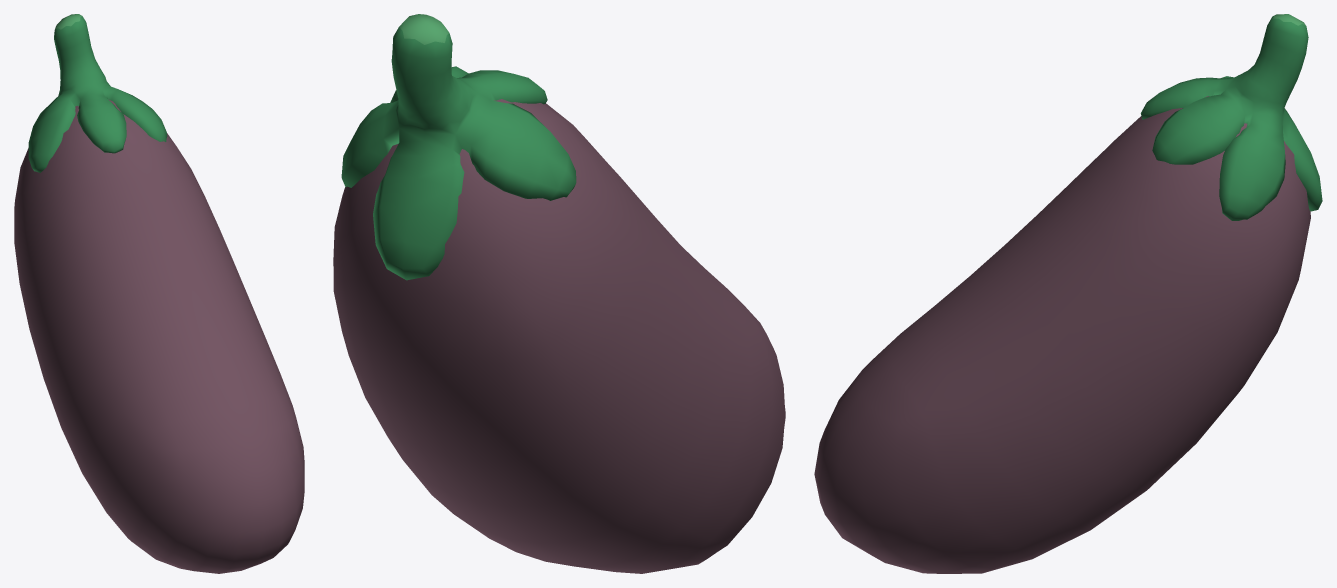
Rendered from Aubergine_02.dae.
The picture shows the model from 3 angles, left to right: view 1: azimuth 30°, elevation 25°; view 2: azimuth 150°, elevation 25°; view 3: azimuth 270°, elevation 25°; orthographic projection. The views are drawn at different scales.
Visible parts, largest first — view 1: Aubergine_02_LOD0; view 2: Aubergine_02_LOD0; view 3: Aubergine_02_LOD0.
Boxes of the visible parts, bbox=[...] form: Aubergine_02_LOD0: bbox=[14, 14, 304, 573]; Aubergine_02_LOD0: bbox=[333, 14, 785, 573]; Aubergine_02_LOD0: bbox=[814, 14, 1322, 573].
Size of what is drawn, in the model's own units: 2.45 by 4.64 by 5.44.
